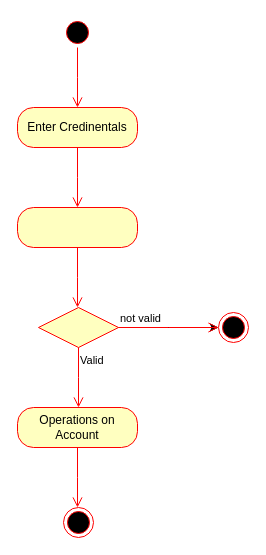
The diagram is 266 pixels wide and 555 high, and some of its shapes have lost their labels. Here are the shapes that lost their labels. From the top down, the centre of each, then its label:
(77,227): Validation
(78,327): Valid Customer
